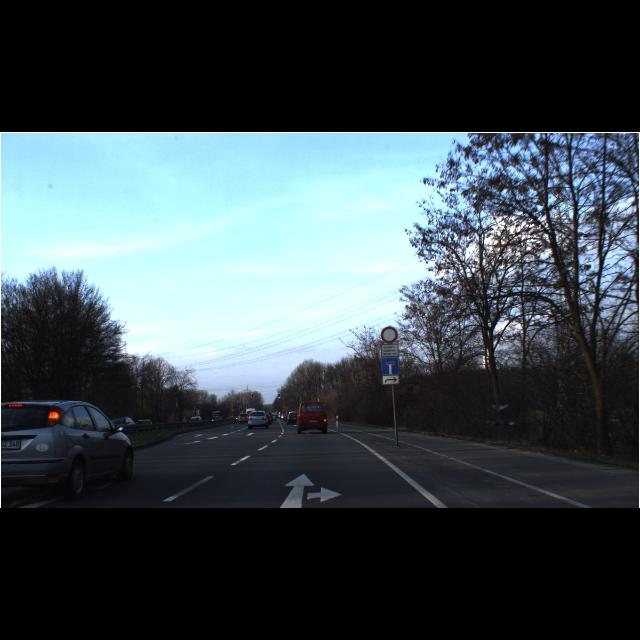prohibitory: (380, 326, 398, 344)
